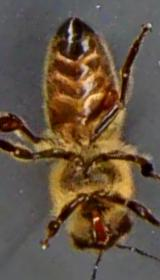varroa_mite: (94, 82, 125, 115)
